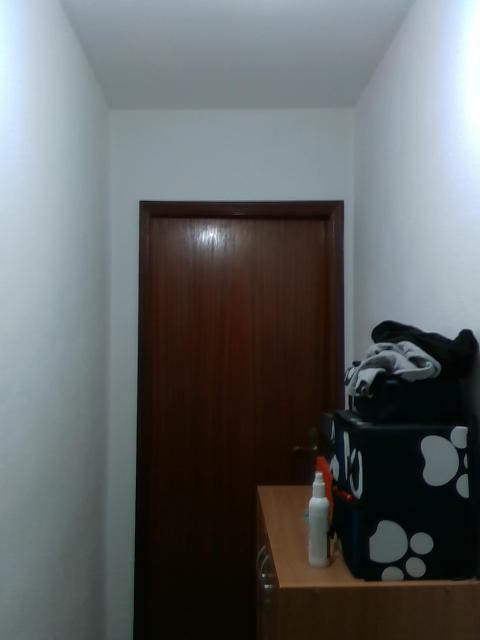door: (149, 217, 324, 640)
